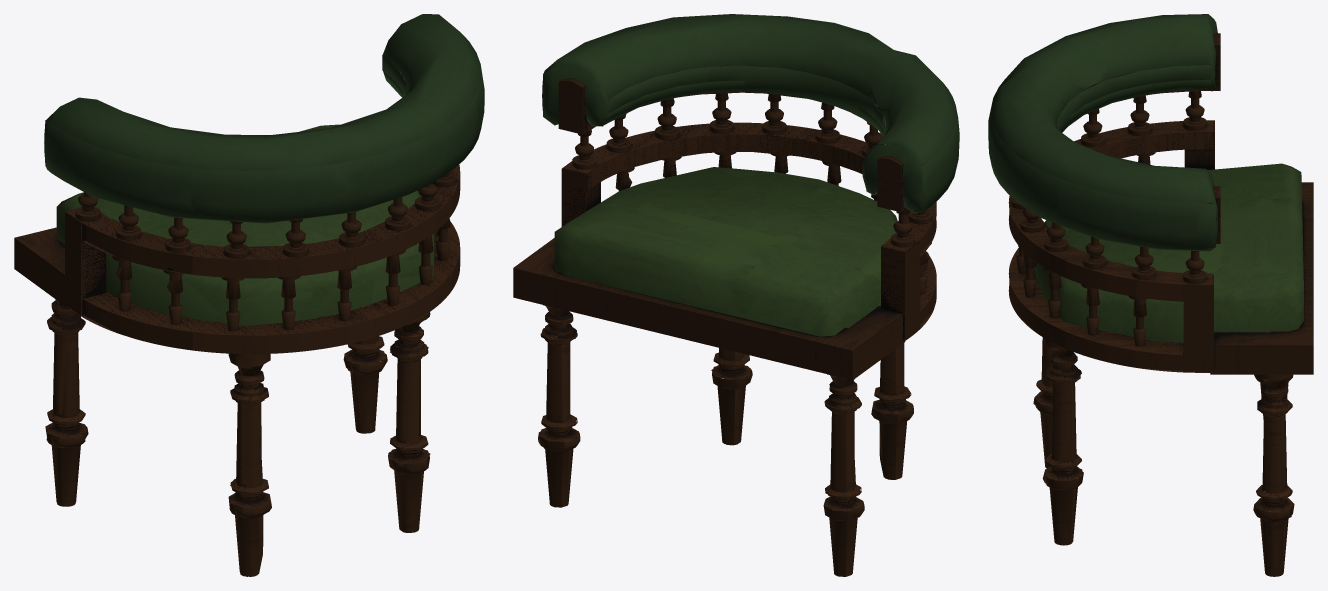
Rendered from mdl_brush_deskchair.gltf.
The picture shows the model from 3 angles, left to right: view 1: azimuth 30°, elevation 25°; view 2: azimuth 150°, elevation 25°; view 3: azimuth 270°, elevation 25°; orthographic projection. The views are drawn at different scales.
Parts seen in each view (by area): view 1: Wood Front_Wood Front_0.004, Wood Front_Wood Front_0.001, Wood Front_Wood Front_0.005, Wood Front_Wood Front_0.002, Wood Front_Wood Front_0.006, Wood Front_Wood Front_0.003; view 2: Wood Front_Wood Front_0.002, Wood Front_Wood Front_0.004, Wood Front_Wood Front_0.003, Wood Front_Wood Front_0.005, Wood Front_Wood Front_0.001, Wood Front_Wood Front_0.006; view 3: Wood Front_Wood Front_0.004, Wood Front_Wood Front_0.002, Wood Front_Wood Front_0.001, Wood Front_Wood Front_0.005, Wood Front_Wood Front_0.003, Wood Front_Wood Front_0.006.
Boxes of the visible parts, x1,y1,x2,y2 form: Wood Front_Wood Front_0.004: (44, 14, 484, 223); Wood Front_Wood Front_0.001: (66, 74, 460, 354); Wood Front_Wood Front_0.005: (45, 299, 430, 576); Wood Front_Wood Front_0.002: (56, 124, 434, 326); Wood Front_Wood Front_0.006: (75, 172, 456, 331); Wood Front_Wood Front_0.003: (14, 209, 106, 315); Wood Front_Wood Front_0.002: (554, 167, 897, 336); Wood Front_Wood Front_0.004: (542, 14, 959, 213); Wood Front_Wood Front_0.003: (513, 78, 920, 380); Wood Front_Wood Front_0.005: (538, 305, 913, 576); Wood Front_Wood Front_0.001: (563, 65, 936, 341); Wood Front_Wood Front_0.006: (572, 93, 932, 294); Wood Front_Wood Front_0.004: (988, 14, 1217, 251); Wood Front_Wood Front_0.002: (1035, 163, 1303, 342); Wood Front_Wood Front_0.001: (1008, 65, 1213, 372); Wood Front_Wood Front_0.005: (1033, 337, 1294, 576); Wood Front_Wood Front_0.003: (1183, 33, 1313, 374); Wood Front_Wood Front_0.006: (1011, 91, 1206, 346).
Bounding box in the file's own units: 3.23 × 3.32 × 2.39.
Materials: 6 (6 with a texture image).
